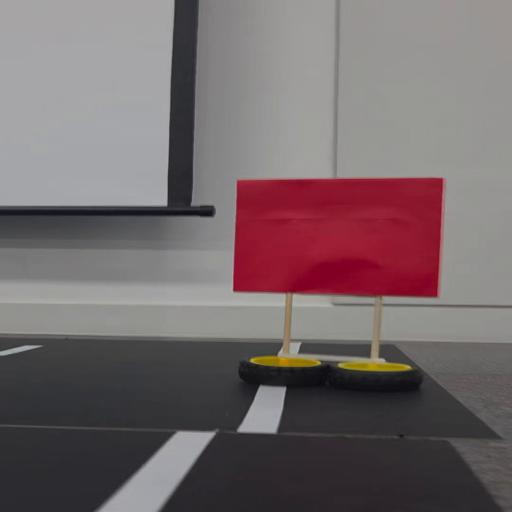Sign_A: (224, 173, 454, 384)
